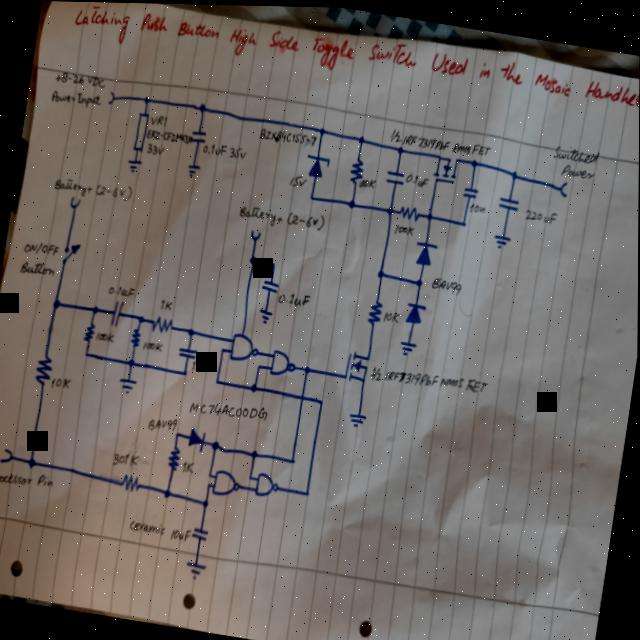capacitor: (110, 298, 126, 328), (497, 192, 521, 211), (385, 166, 406, 186), (177, 344, 199, 361), (191, 524, 210, 542), (261, 276, 281, 293), (461, 183, 479, 199), (190, 128, 208, 144)
crossover: (299, 391, 308, 402)
diode: (412, 238, 439, 267), (304, 151, 331, 179), (404, 298, 427, 325), (187, 425, 208, 452)
ground: (184, 558, 209, 581), (117, 374, 139, 395), (347, 409, 369, 429), (398, 336, 418, 356), (492, 231, 512, 249), (257, 306, 275, 325), (125, 156, 143, 175), (185, 160, 202, 179)
junction: (26, 456, 38, 470), (196, 100, 208, 114), (126, 356, 138, 369), (248, 252, 259, 266), (210, 438, 221, 451), (347, 196, 358, 209), (385, 202, 396, 215), (52, 297, 63, 310), (376, 267, 387, 280), (163, 486, 173, 500), (510, 167, 519, 179), (250, 381, 259, 393), (202, 496, 211, 508), (303, 362, 312, 374), (426, 209, 435, 221), (317, 394, 326, 406), (416, 275, 425, 286), (91, 304, 100, 315), (187, 326, 196, 337), (318, 125, 327, 136), (143, 94, 152, 105), (396, 143, 405, 154), (357, 133, 366, 144), (470, 155, 479, 166), (250, 448, 259, 459), (173, 429, 182, 439), (304, 487, 312, 498), (289, 454, 297, 465), (182, 367, 190, 377), (138, 314, 146, 324), (270, 259, 278, 268), (219, 345, 227, 354), (83, 349, 90, 359), (461, 217, 468, 226), (309, 192, 316, 201), (214, 376, 221, 385), (256, 362, 263, 371), (247, 472, 254, 481), (207, 480, 212, 487), (208, 471, 213, 477)
resistor: (132, 110, 151, 153), (35, 353, 55, 387), (120, 471, 144, 494), (348, 155, 366, 185), (151, 313, 175, 335), (367, 297, 384, 326), (398, 202, 422, 221), (167, 444, 183, 472), (83, 322, 98, 344), (129, 328, 143, 348)
switch: (60, 241, 82, 266)
terminal: (0, 447, 15, 466), (68, 194, 82, 211), (558, 178, 570, 195), (105, 90, 117, 106), (250, 228, 262, 242)
text: (70, 1, 640, 128), (369, 360, 489, 399), (390, 126, 492, 158), (188, 394, 269, 425), (50, 81, 104, 111), (0, 465, 55, 493), (259, 124, 319, 149), (236, 199, 285, 228), (53, 68, 107, 94), (553, 140, 601, 164), (52, 172, 95, 198), (95, 179, 134, 202), (146, 127, 193, 146), (286, 208, 326, 230), (24, 238, 60, 260), (129, 518, 170, 537), (20, 258, 57, 279), (524, 205, 560, 225), (560, 160, 596, 179), (280, 288, 312, 309), (430, 274, 463, 294), (147, 414, 179, 434), (112, 449, 140, 468), (107, 282, 137, 299), (403, 170, 430, 188), (203, 141, 229, 157), (170, 524, 192, 542), (52, 374, 73, 391), (288, 172, 308, 188), (148, 112, 168, 128), (228, 144, 248, 160), (145, 141, 166, 156), (395, 220, 416, 235), (144, 338, 165, 353), (384, 307, 402, 323), (469, 199, 488, 214), (97, 329, 116, 344), (358, 175, 378, 189), (181, 458, 197, 474), (159, 297, 175, 312), (192, 359, 205, 372)
transistor: (344, 347, 373, 387), (433, 153, 460, 182)
